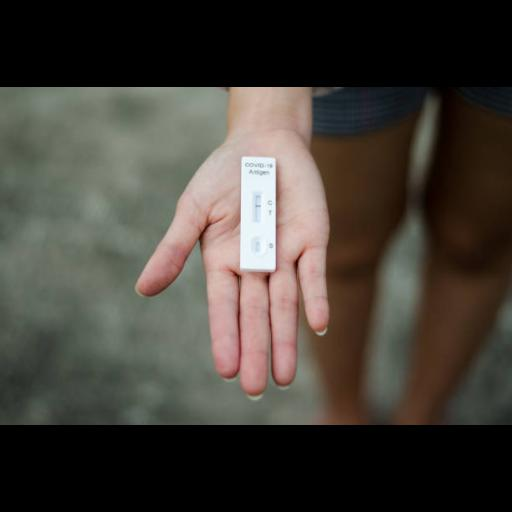Neg: (241, 155, 275, 269)
